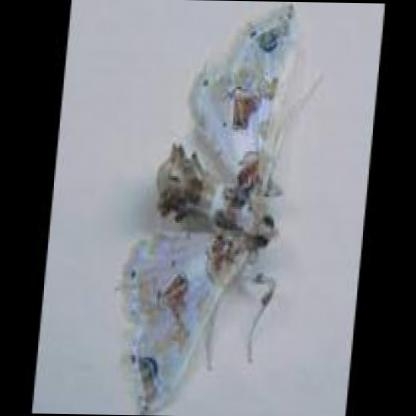leucinodes: (119, 12, 292, 410)
